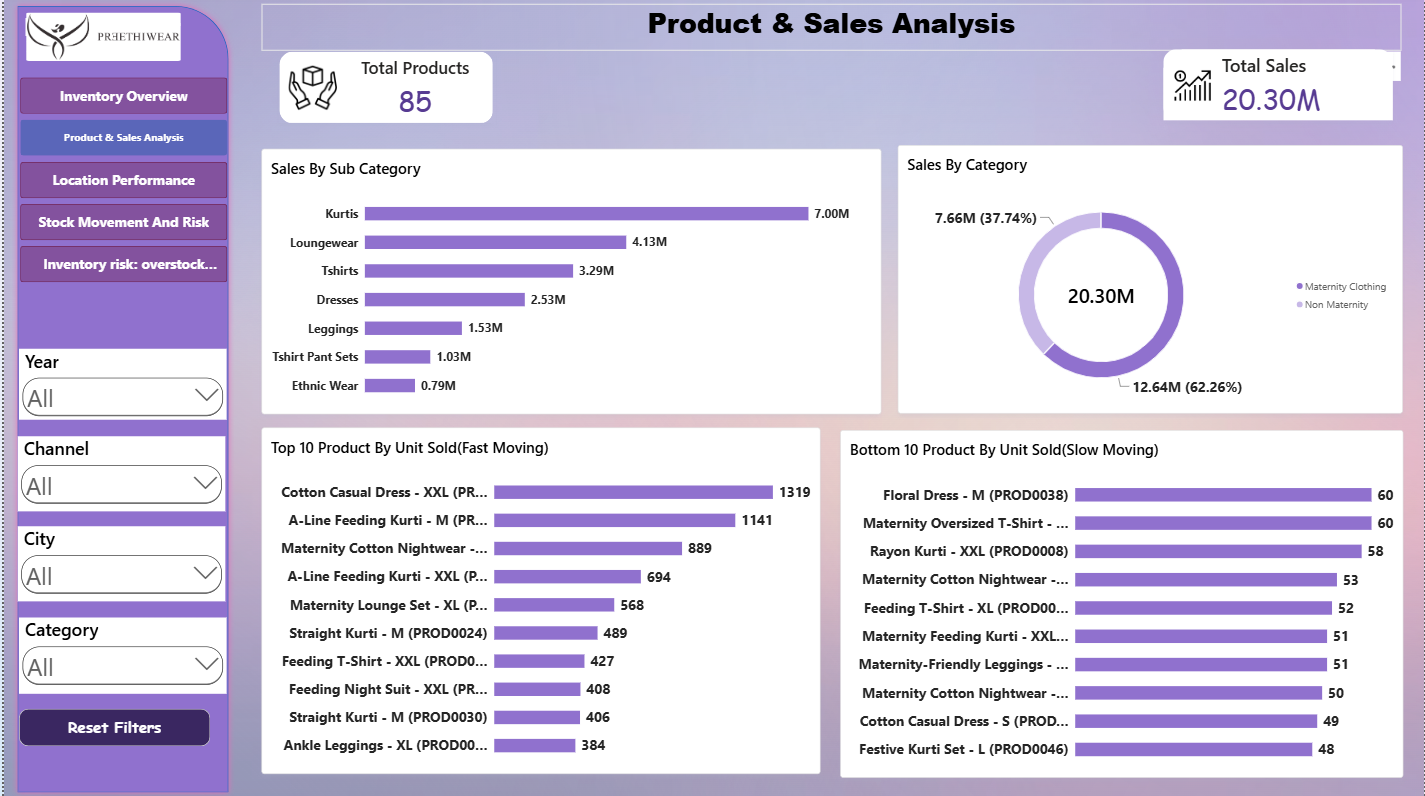

What the dashboard file says about the page in this screenshot:
{"tool":"powerbi","page":{"name":"Product & Sales Analysis","canvas":[1920,1080],"ordinal":1},"visuals":[{"type":"textbox","title":"Product & Sales Analysis","box":[348.4,4.7,1541.7,63.8],"z":0},{"type":"clusteredBarChart","title":"Sales By Sub Category","fields":{"Category":["Product Details.subcategory"],"Y":["Inventory Transactions.Total Sales"]},"box":[349,201.4,838.4,359.3],"z":1000},{"type":"donutChart","title":"Sales By Category","fields":{"Category":["Product Details.category"],"Y":["Inventory Transactions.Total Sales"]},"box":[1208.5,195.4,683.5,363.4],"z":2000},{"type":"clusteredBarChart","title":"Top 10 Product By Unit Sold(Fast Moving)","fields":{"Category":["Product Details.Product Label"],"Y":["Inventory Transactions.Total Units Sold"]},"box":[349,578.3,755.8,468.6],"z":3000},{"type":"clusteredBarChart","title":"Bottom 10 Product By Unit Sold(Slow Moving)","fields":{"Category":["Product Details.Product Label"],"Y":["Inventory Transactions.Total Units Sold"]},"box":[1130.7,582.3,761.8,470.6],"z":4000},{"type":"shape","box":[10.3,0,301.5,1080],"z":5000},{"type":"pageNavigator","box":[21.4,104.8,280.1,278],"z":6000},{"type":"textbox","title":"Inventory Intelligence","box":[29.9,51.3,259.3,57.6],"z":7000},{"type":"textbox","title":"Preethi Wear","box":[27.8,17.1,290.2,49.4],"z":8000},{"type":"actionButton","box":[20.3,958.6,258.7,50.7],"z":17000},{"type":"image","box":[25.4,16.9,218.1,65.9],"z":18000},{"type":"cardVisual","fields":{"Data":["Inventory Transactions.Total Sales"]},"box":[1567.3,65.9,311.1,97.7],"z":18003},{"type":"cardVisual","fields":{"Data":["Product Details.Total Products"]},"box":[371.9,69.3,289.2,97.7],"z":18004},{"type":"slicer","fields":{"Values":["Date.Year"]},"box":[20.3,471.7,280.7,96.4],"z":18005},{"type":"slicer","fields":{"Values":["Inventory Locations.Channel"]},"box":[18.6,590,280.7,101.4],"z":18006},{"type":"slicer","fields":{"Values":["Inventory Locations.City"]},"box":[18.6,711.8,280.7,101.4],"z":18007},{"type":"slicer","fields":{"Values":["Product Details.category"]},"box":[20.3,835.2,280.7,103.1],"z":18008}]}

Visuals, with their boxes in screenshot pixels (x1, y1, x2, y2), scaled from the page's 1920x1080 canvas onto the 1425x796 screenshot:
"Product & Sales Analysis" textbox: bbox(259, 3, 1403, 50)
"Sales By Sub Category" clusteredBarChart: bbox(259, 148, 881, 413)
"Sales By Category" donutChart: bbox(897, 144, 1404, 412)
"Top 10 Product By Unit Sold(Fast Moving)" clusteredBarChart: bbox(259, 426, 820, 772)
"Bottom 10 Product By Unit Sold(Slow Moving)" clusteredBarChart: bbox(839, 429, 1405, 776)
shape: bbox(8, 0, 231, 795)
pageNavigator: bbox(16, 77, 224, 282)
"Inventory Intelligence" textbox: bbox(22, 38, 215, 80)
"Preethi Wear" textbox: bbox(21, 13, 236, 49)
actionButton: bbox(15, 707, 207, 744)
image: bbox(19, 12, 181, 61)
cardVisual - Inventory Transactions.Total Sales: bbox(1163, 49, 1394, 121)
cardVisual - Product Details.Total Products: bbox(276, 51, 491, 123)
slicer - Date.Year: bbox(15, 348, 223, 419)
slicer - Inventory Locations.Channel: bbox(14, 435, 222, 510)
slicer - Inventory Locations.City: bbox(14, 525, 222, 599)
slicer - Product Details.category: bbox(15, 616, 223, 692)
